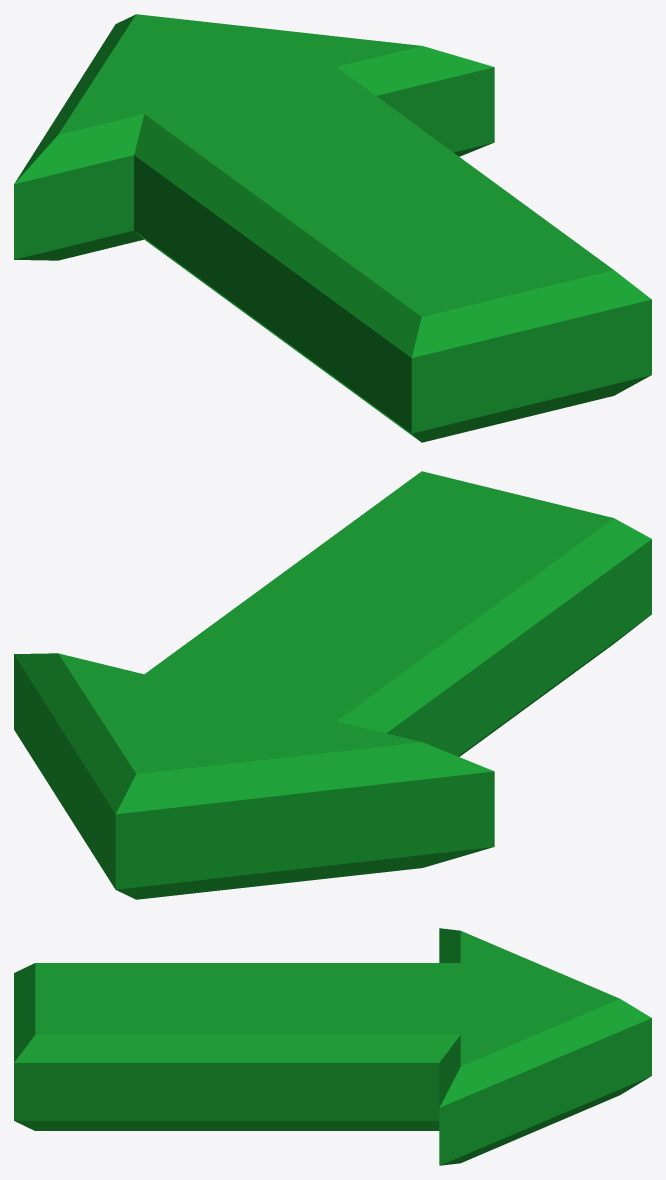
File: arrow.glb
3 renders of one model, top to bottom at view 1: azimuth 30°, elevation 25°; view 2: azimuth 150°, elevation 25°; view 3: azimuth 270°, elevation 25°, orthographic. The views are drawn at different scales.
Visible parts, largest first — view 1: Cube; view 2: Cube; view 3: Cube.
Boxes of the visible parts, x1,y1,x2,y2 form: Cube: [14, 14, 651, 442]; Cube: [14, 471, 651, 899]; Cube: [14, 928, 651, 1165].
Bounding box in the file's own units: 2 × 0.5 × 3.
Materials: 1 (1 with a texture image).
